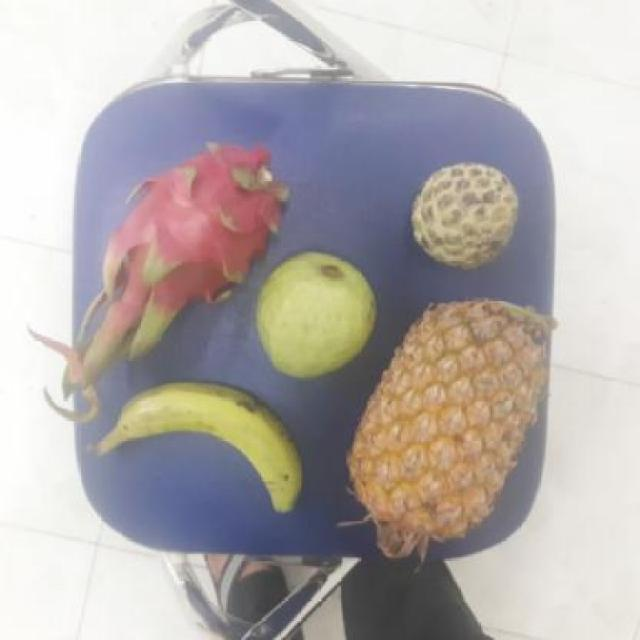banana: (113, 378, 310, 516)
dragon fruit: (102, 142, 287, 310)
guava: (249, 250, 377, 376)
pineapple: (342, 298, 544, 558)
sugar apple: (407, 162, 521, 266)
